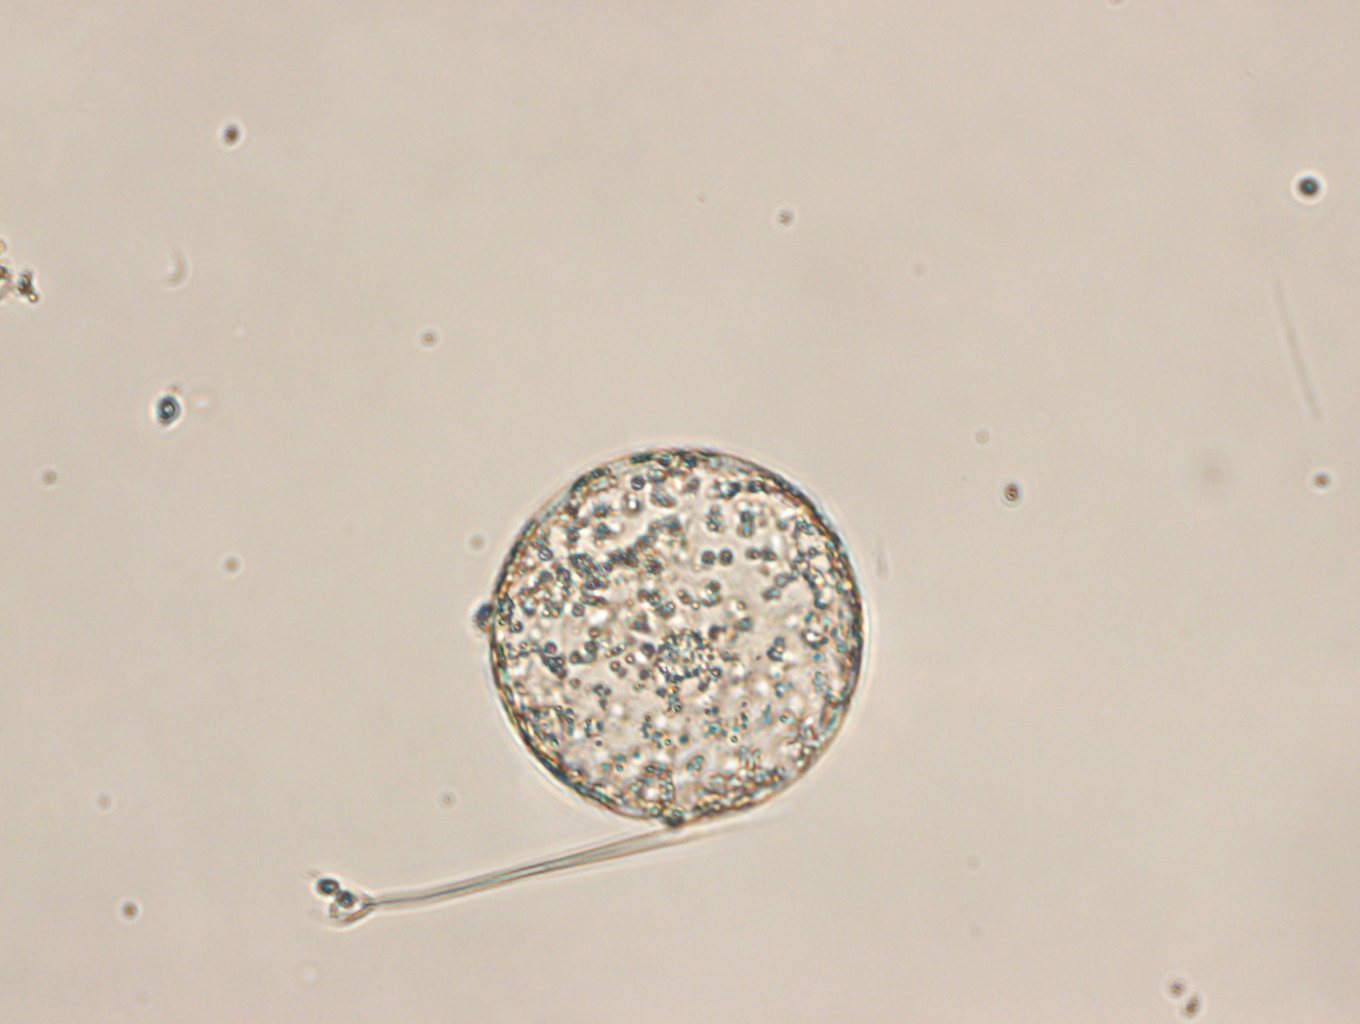coscinodiscus: (489, 446, 867, 826)
